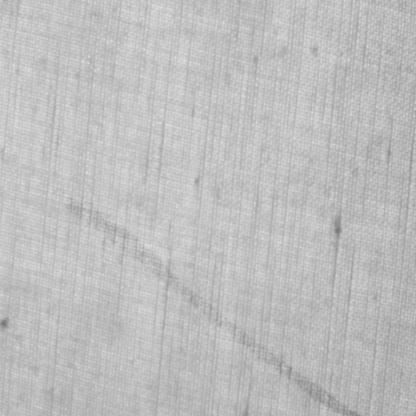oil spot: (60, 187, 358, 415)
